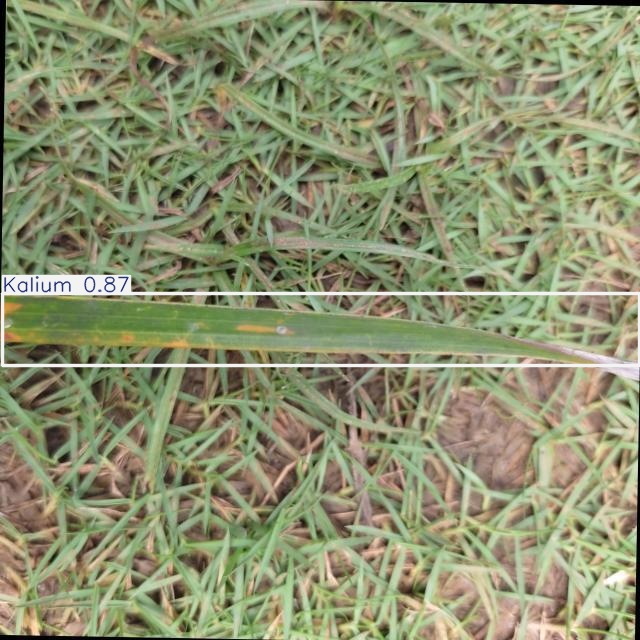Kalium: (2, 293, 640, 365)
